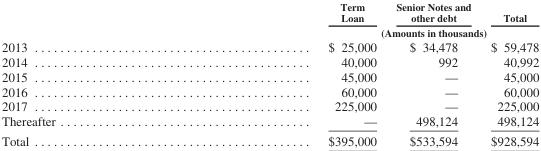table: (0, 0, 538, 148)
table column: (191, 0, 385, 148), (0, 0, 191, 148), (385, 0, 480, 148), (480, 0, 538, 148)
table column header: (0, 0, 538, 38)
table row: (0, 0, 538, 24), (0, 130, 538, 148), (0, 113, 538, 130), (0, 38, 538, 54), (0, 68, 538, 83), (0, 83, 538, 98), (0, 98, 538, 113), (0, 24, 538, 38), (0, 54, 538, 68)
table spanning cell: (191, 24, 538, 38)
